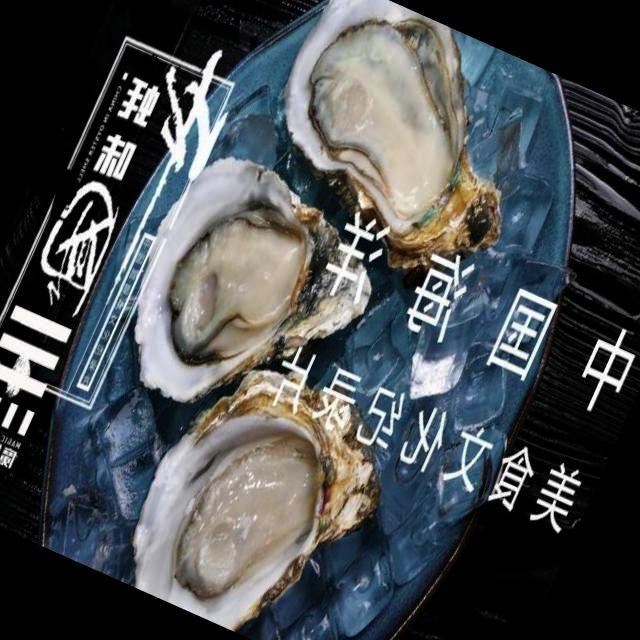Oyster-Open: (108, 348, 391, 635), (260, 0, 522, 293), (113, 139, 383, 411)
